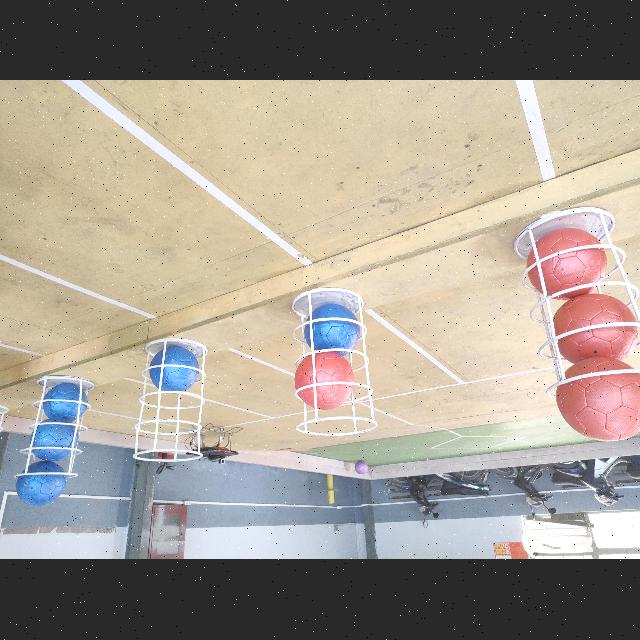B: (304, 306, 360, 354), (149, 346, 199, 392), (17, 462, 68, 506), (30, 419, 78, 461), (42, 385, 88, 421)
R: (556, 359, 640, 443), (526, 228, 608, 296), (552, 297, 640, 357), (294, 354, 356, 412)
